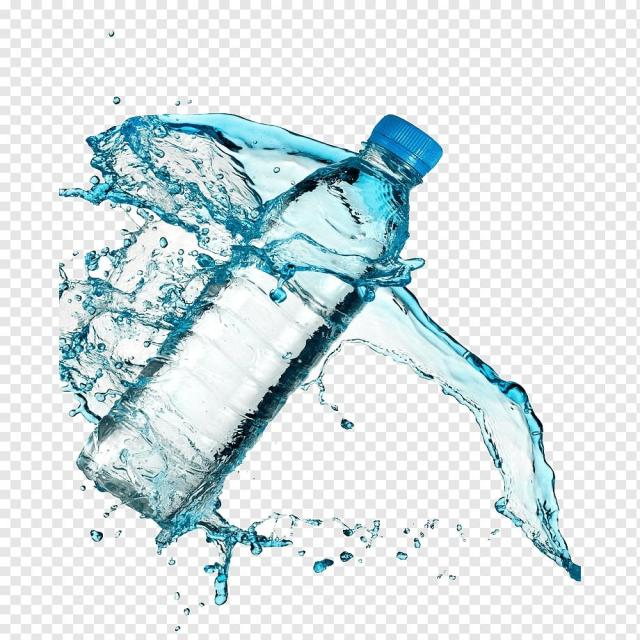bottle: (72, 110, 472, 519)
